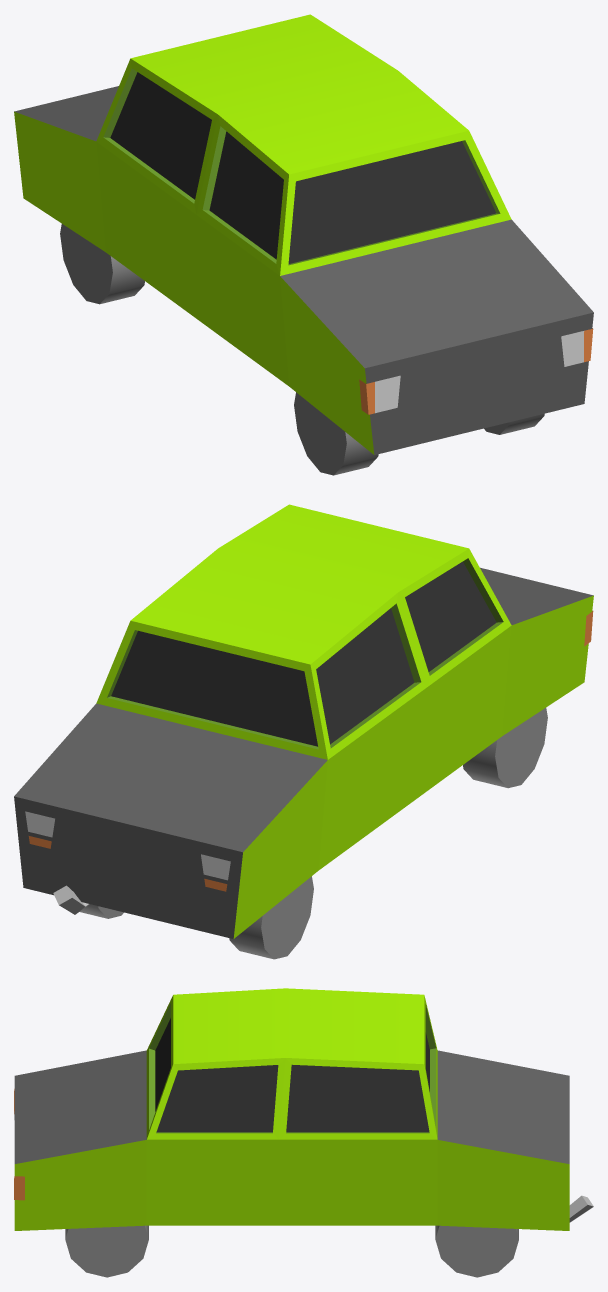
The model's file is car_mixed_07.fbx.
3 views of the same model, one above another, from view 1: azimuth 30°, elevation 25°; view 2: azimuth 150°, elevation 25°; view 3: azimuth 270°, elevation 25° (orthographic). The views are drawn at different scales.
Parts seen in each view (by area): view 1: car_mixed_07; view 2: car_mixed_07; view 3: car_mixed_07.
Part boxes in pixels (box(x1,y1,x2,y2)): car_mixed_07: box(14, 14, 593, 475); car_mixed_07: box(14, 504, 593, 959); car_mixed_07: box(14, 988, 593, 1277).
Size of the model in its own units: 1.6 by 1.8 by 4.39.
